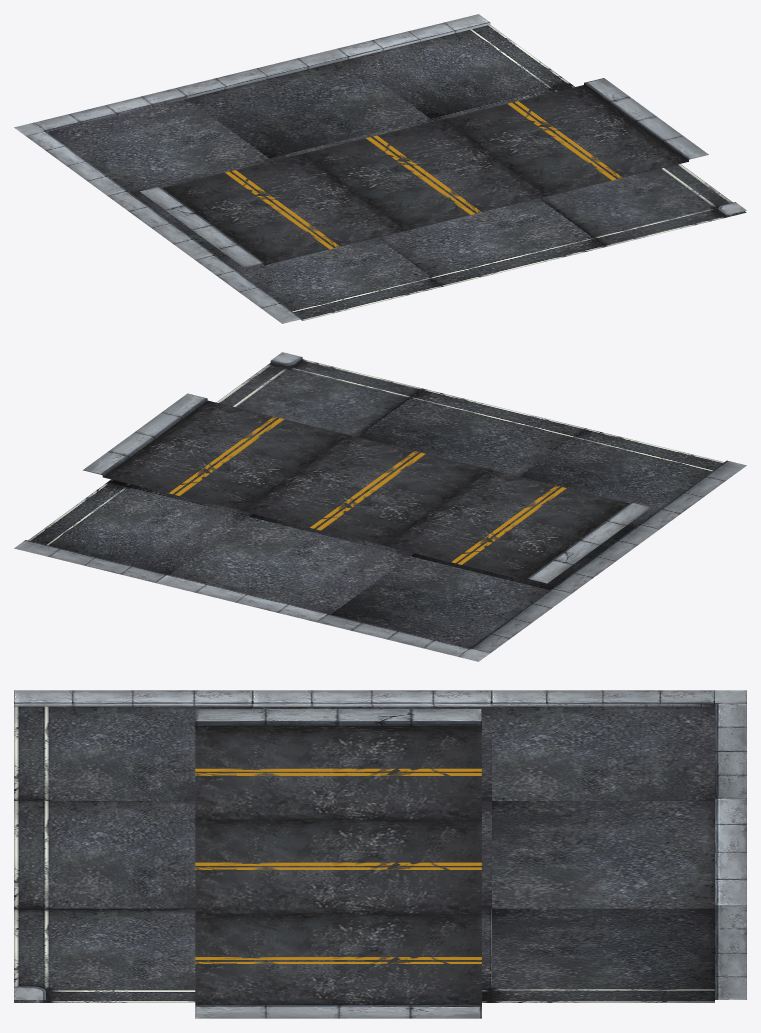
The model's file is BigRoad.fbx.
3 renders of one model, top to bottom at view 1: azimuth 30°, elevation 25°; view 2: azimuth 150°, elevation 25°; view 3: azimuth 270°, elevation 25°, orthographic. The views are drawn at different scales.
Visible parts, largest first — view 1: BD_ConcreteBlock1.014, BD_ConcreteBlock1.006; view 2: BD_ConcreteBlock1.014, BD_ConcreteBlock1.006; view 3: BD_ConcreteBlock1.014, BD_ConcreteBlock1.006.
Boxes of the visible parts, x1,y1,x2,y2 form: BD_ConcreteBlock1.014: (14, 14, 746, 323); BD_ConcreteBlock1.006: (140, 78, 708, 267); BD_ConcreteBlock1.014: (14, 352, 746, 661); BD_ConcreteBlock1.006: (83, 393, 651, 583); BD_ConcreteBlock1.014: (14, 690, 746, 1002); BD_ConcreteBlock1.006: (195, 709, 481, 1018).
Size of the model in its own units: 48.82 by 0.2224 by 46.
1 material, 1 textured.
